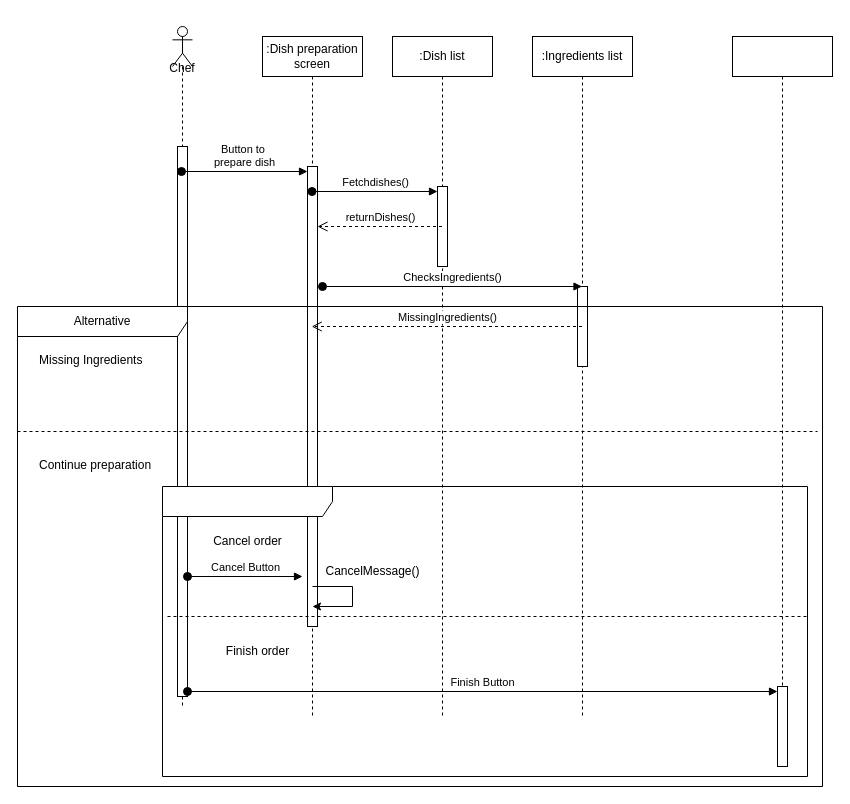
Some shapes in this 850 by 804 pixel diagram are drawn without their labels. The shapes that lost their labels are listed below. From the top down, each one's box as (x1, y1, x2, y2) in pixels, then its label:
(732, 36, 832, 766): :Finish preparation
(162, 486, 808, 776): Alternatives
